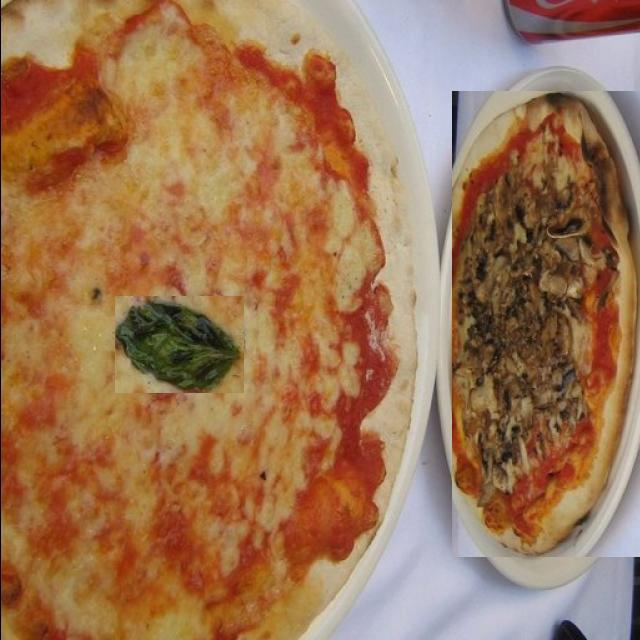basil: (112, 296, 242, 393)
pizza: (0, 0, 418, 640), (451, 91, 640, 557)
